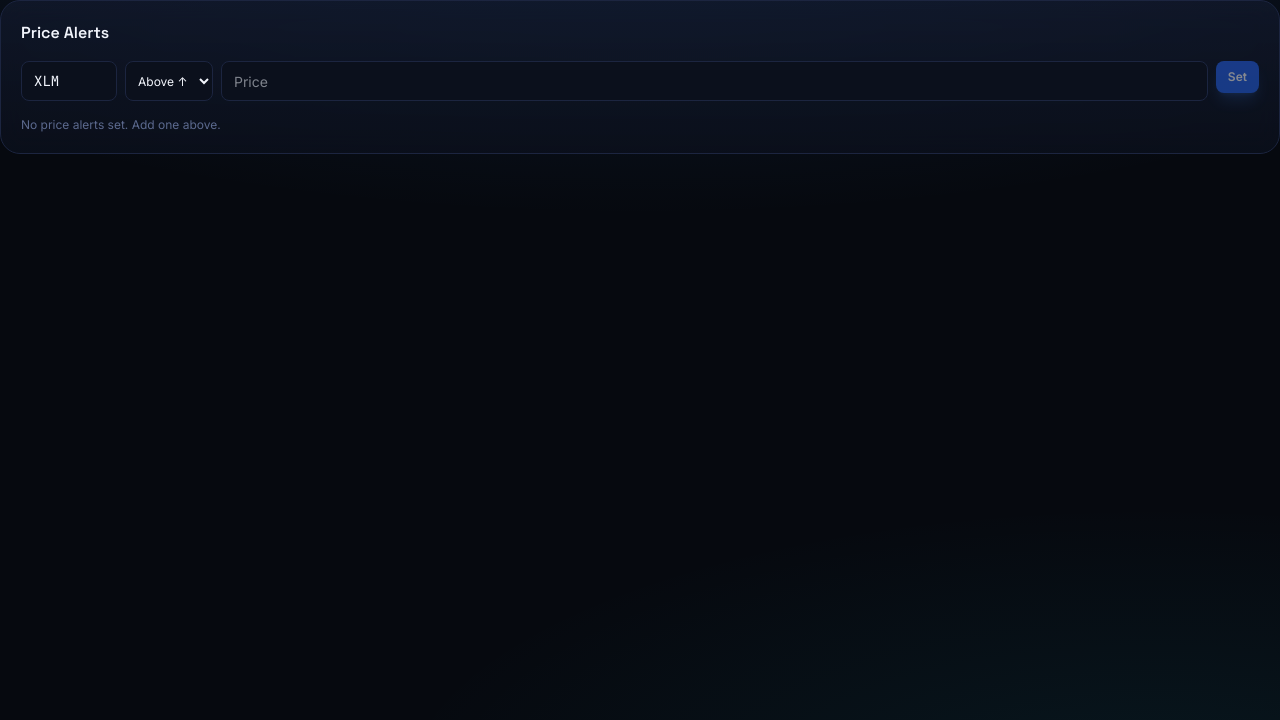
Scenario: PriceAlertPanel › adds a new alert
Step 1. Type "1.5" into the number field with placeholder "Price" → x=714, y=81, box [221, 61, 1208, 101]
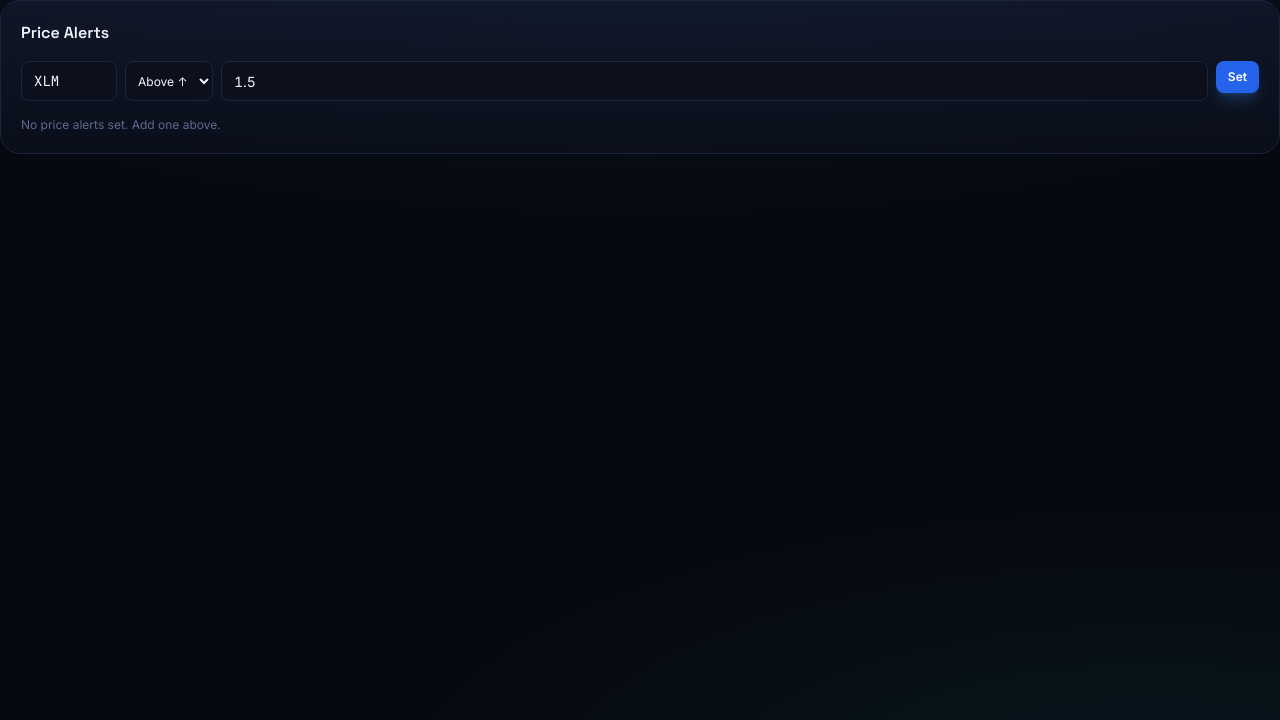
Step 2. Click the button "Set" → x=1237, y=77, box [1216, 61, 1259, 93]
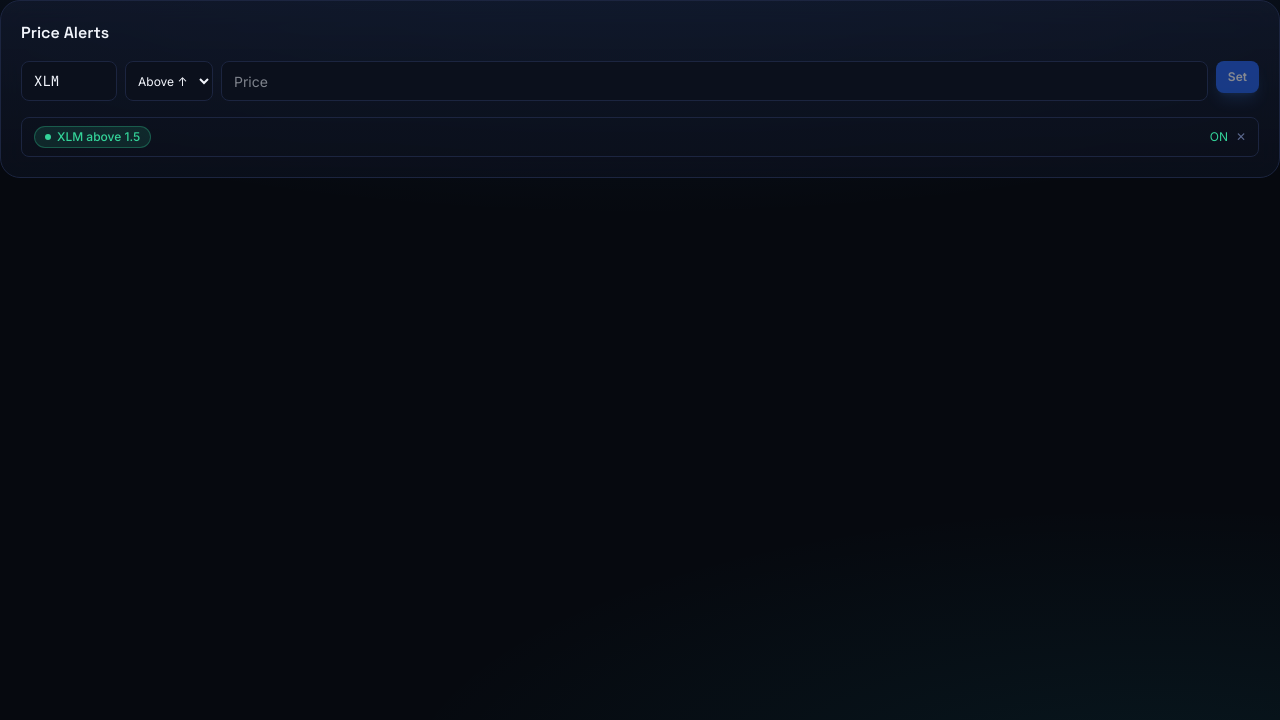
Now the text "XLM above 1.5" is shown, box [34, 126, 151, 148]
